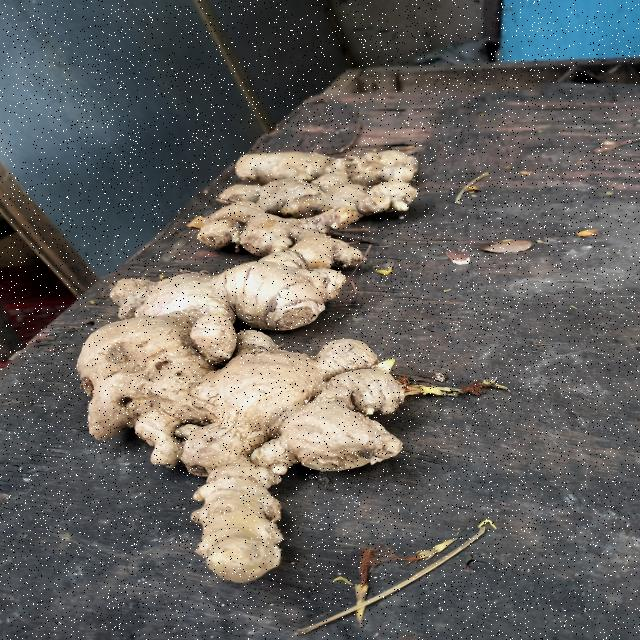ginger: (39, 330, 455, 574), (105, 239, 356, 329), (161, 195, 388, 249), (213, 137, 415, 195)
